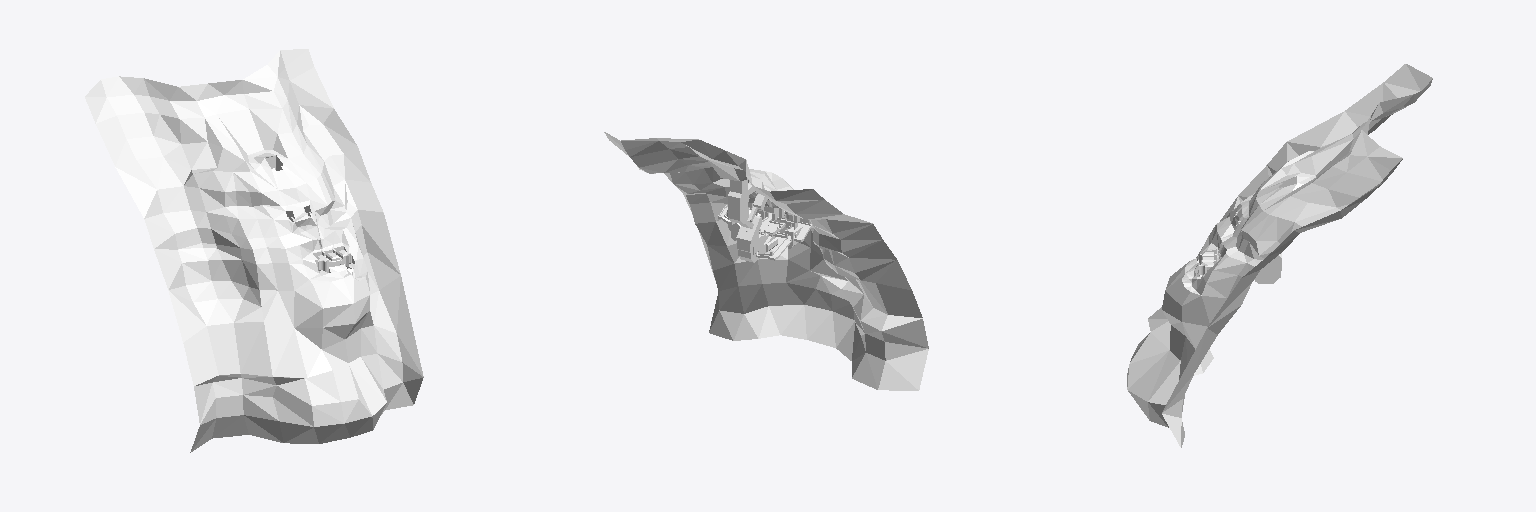
File: lockout.obj
3 views of the same model, side by side, from view 1: azimuth 30°, elevation 25°; view 2: azimuth 150°, elevation 25°; view 3: azimuth 270°, elevation 25° (orthographic).
Visible parts, largest first — view 1: lockout; view 2: lockout; view 3: lockout.
Part boxes in pixels (bbox=[...]): lockout: bbox=[85, 49, 423, 452]; lockout: bbox=[604, 132, 928, 390]; lockout: bbox=[1127, 64, 1432, 447].
Bounding box in the file's own units: 217 × 266 × 265.